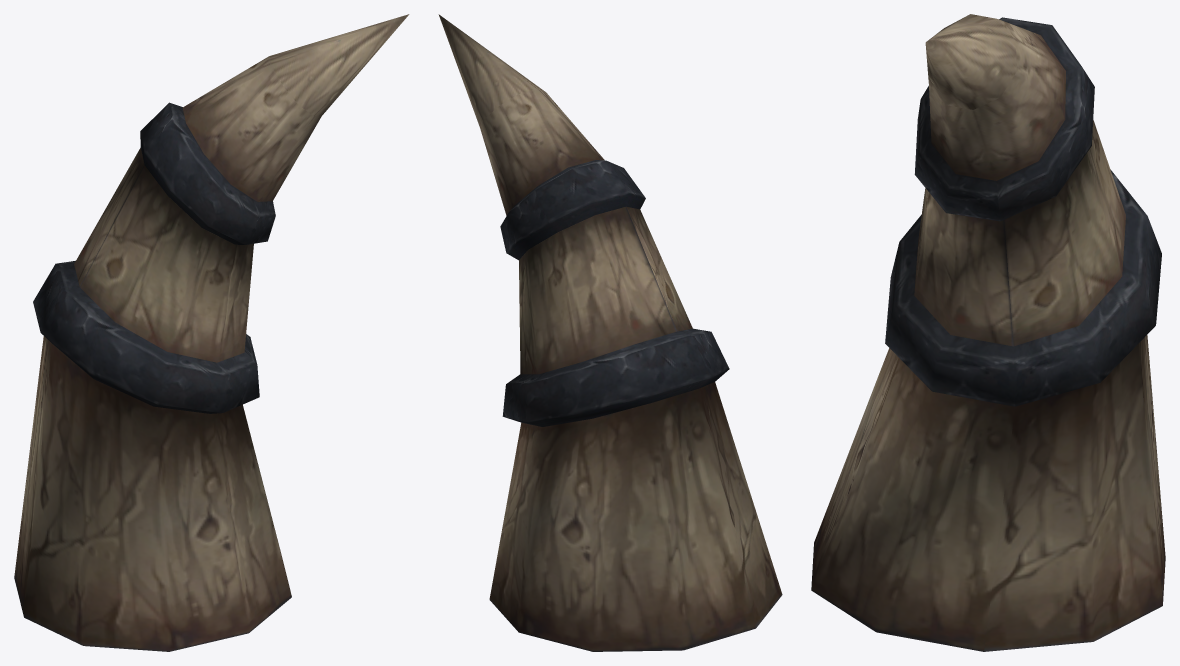
File: Anmaodao_heisegutou.FBX
3 renders of one model, left to right at view 1: azimuth 30°, elevation 25°; view 2: azimuth 150°, elevation 25°; view 3: azimuth 270°, elevation 25°, orthographic. The views are drawn at different scales.
Parts seen in each view (by area): view 1: Anmaodao_heisegutou; view 2: Anmaodao_heisegutou; view 3: Anmaodao_heisegutou.
Boxes of the visible parts, <box> form: Anmaodao_heisegutou: <box>14,14,409,651</box>; Anmaodao_heisegutou: <box>438,14,782,651</box>; Anmaodao_heisegutou: <box>811,14,1165,651</box>.
Bounding box in the file's own units: 69.75 × 47.36 × 99.56.
